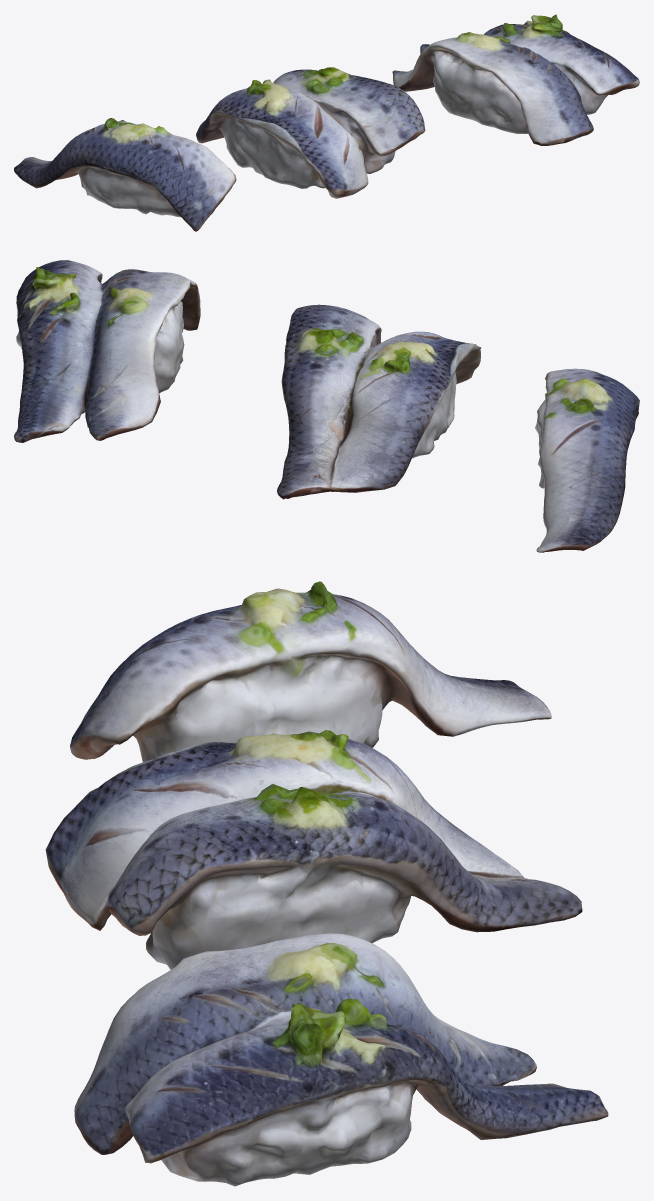
File: iwashi.obj
3 renders of one model, top to bottom at view 1: azimuth 30°, elevation 25°; view 2: azimuth 150°, elevation 25°; view 3: azimuth 270°, elevation 25°, orthographic. The views are drawn at different scales.
Parts seen in each view (by area): view 1: iwashi-2, iwashi-3, iwashi-1; view 2: iwashi-2, iwashi-3, iwashi-1; view 3: iwashi-3, iwashi-2, iwashi-1.
Part boxes in pixels (bbox=[...]): iwashi-2: bbox=[196, 67, 425, 198]; iwashi-3: bbox=[392, 14, 639, 145]; iwashi-1: bbox=[14, 118, 236, 231]; iwashi-2: bbox=[277, 304, 481, 499]; iwashi-3: bbox=[14, 260, 200, 442]; iwashi-1: bbox=[535, 368, 639, 552]; iwashi-3: bbox=[74, 933, 608, 1186]; iwashi-2: bbox=[45, 730, 582, 969]; iwashi-1: bbox=[70, 581, 551, 762].
Size of the model in its own units: 16.81 by 2.35 by 7.62.
Materials: 1 (1 with a texture image).
